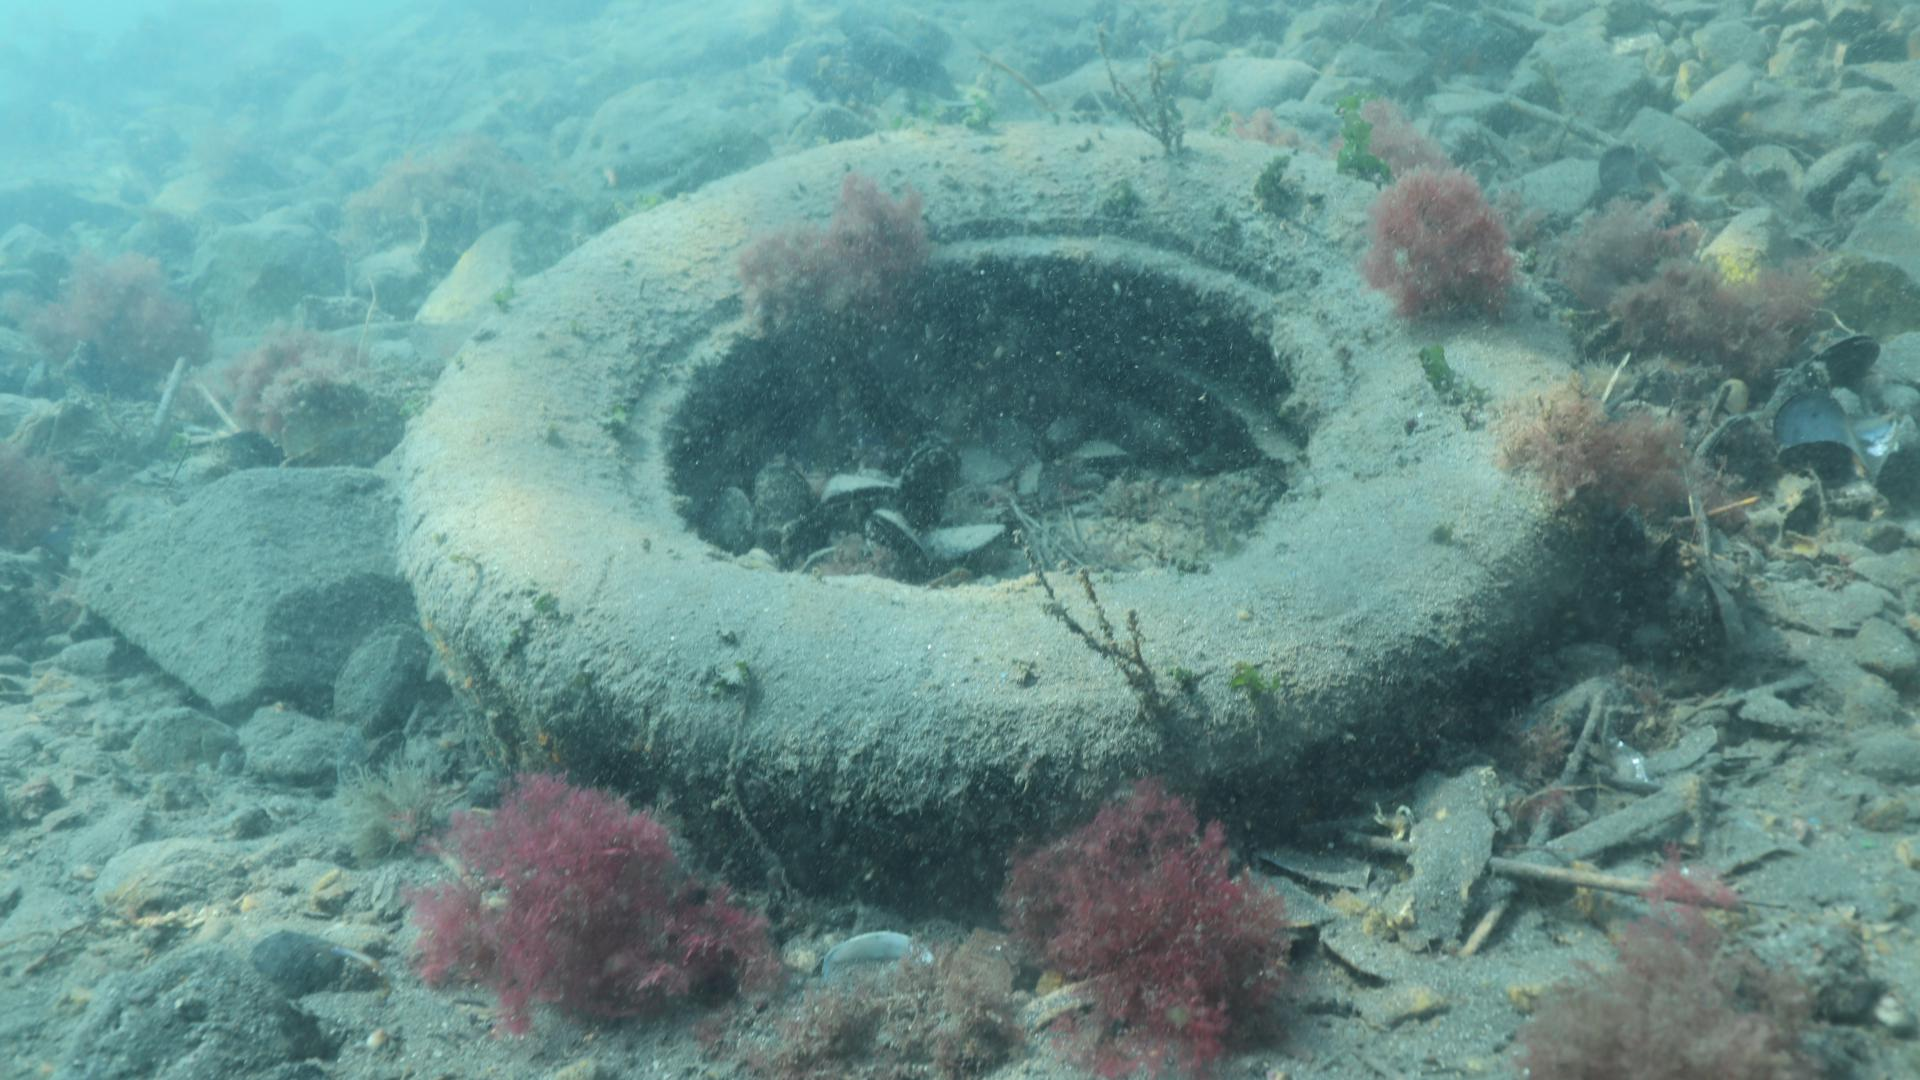tire: (396, 113, 1584, 909)
